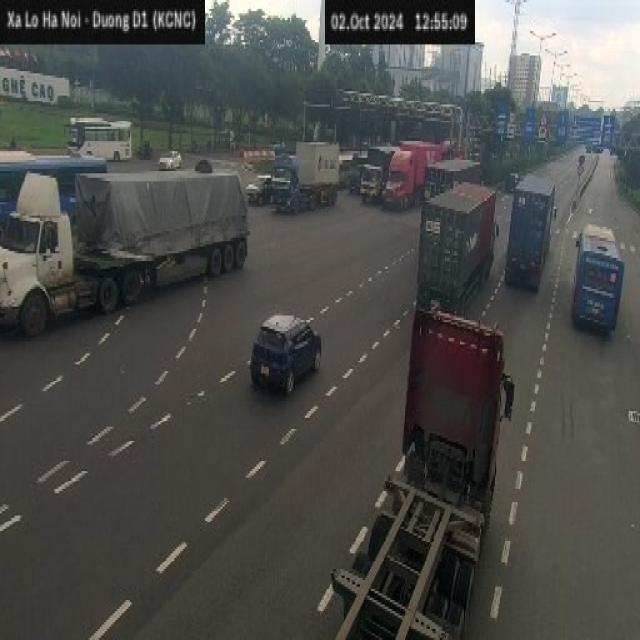bus: (571, 222, 624, 336), (65, 116, 131, 160)
car: (255, 299, 322, 391), (247, 163, 273, 220)
container-truck: (351, 306, 500, 640), (0, 162, 250, 336), (426, 173, 494, 292), (504, 171, 556, 291), (385, 145, 463, 202)
truck: (270, 149, 343, 209), (360, 145, 390, 198)
